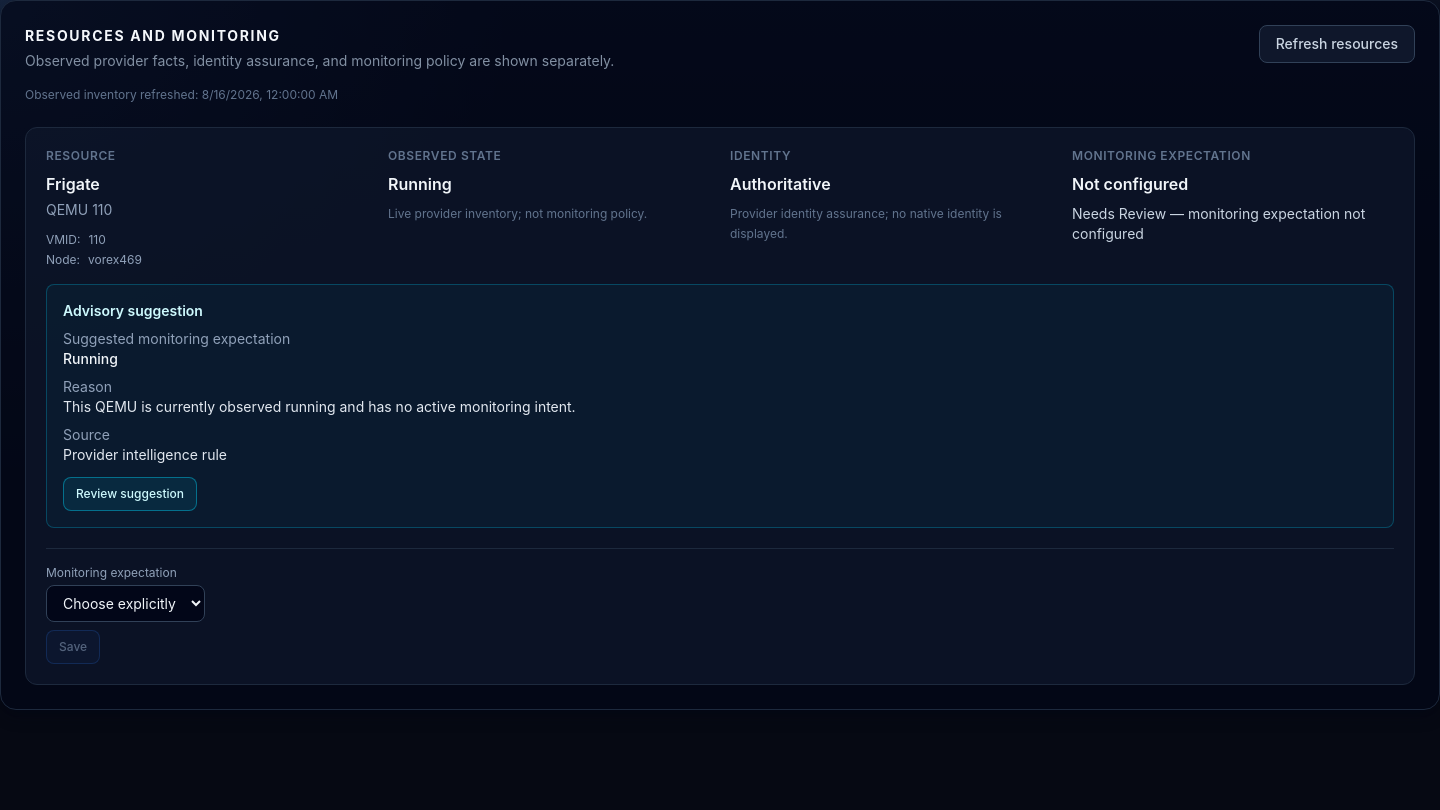
Test: ProviderResources Provider Intent flow › requires a renewed explicit choice when intent configures after review
expect the heading "Frigate" is shown: met, box [46,174,100,194]
expect the dropdown labelled "Monitoring expectation" is shown: met, box [46,585,205,622]
What coordinates should you click on to do the following:
click the button "Review suggestion"
I would click on:
 (130, 494)
Its box is [63,477,197,511].
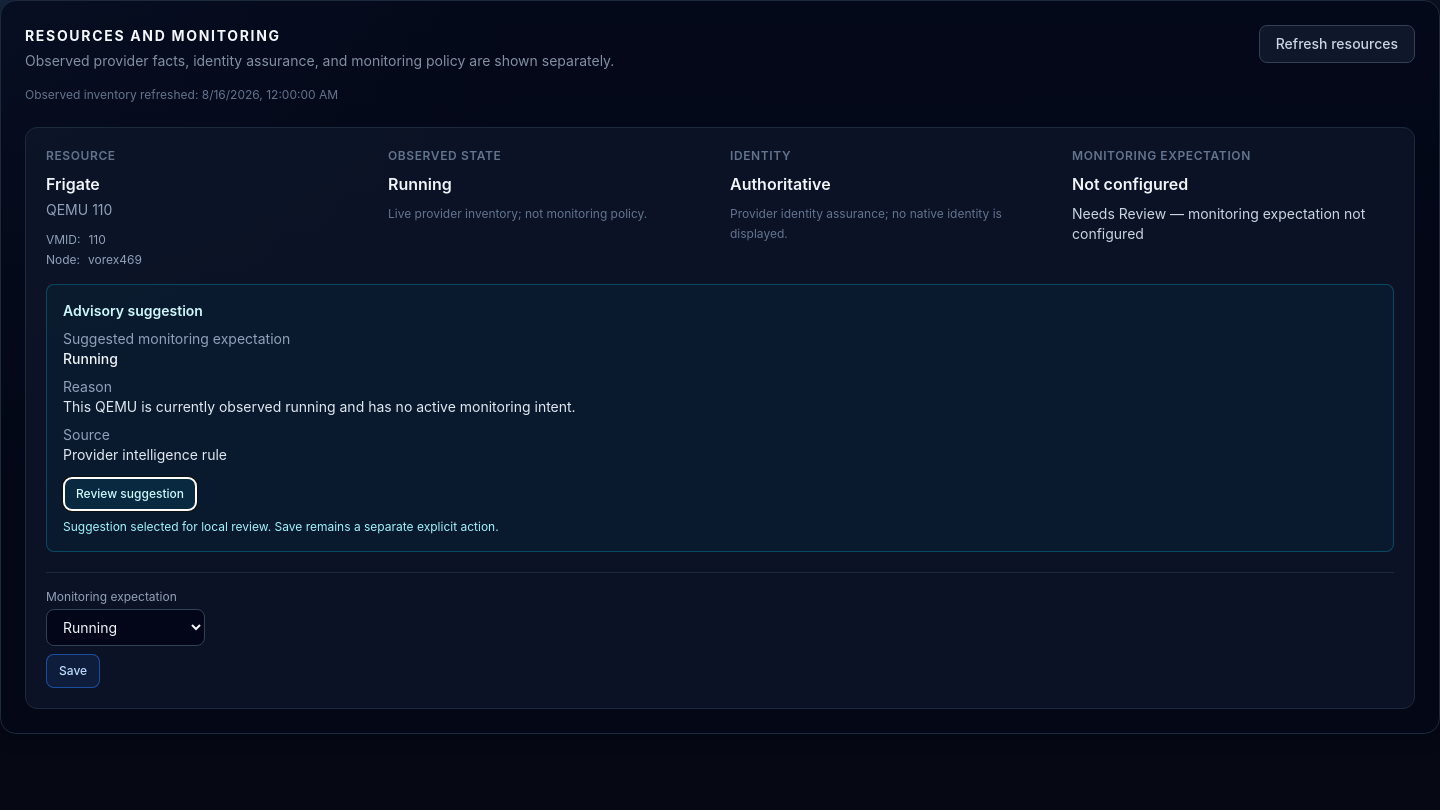
What coordinates should you click on to do the following:
click the button "Refresh resources"
I would click on:
 (1337, 44)
Its box is [1259,25,1415,63].
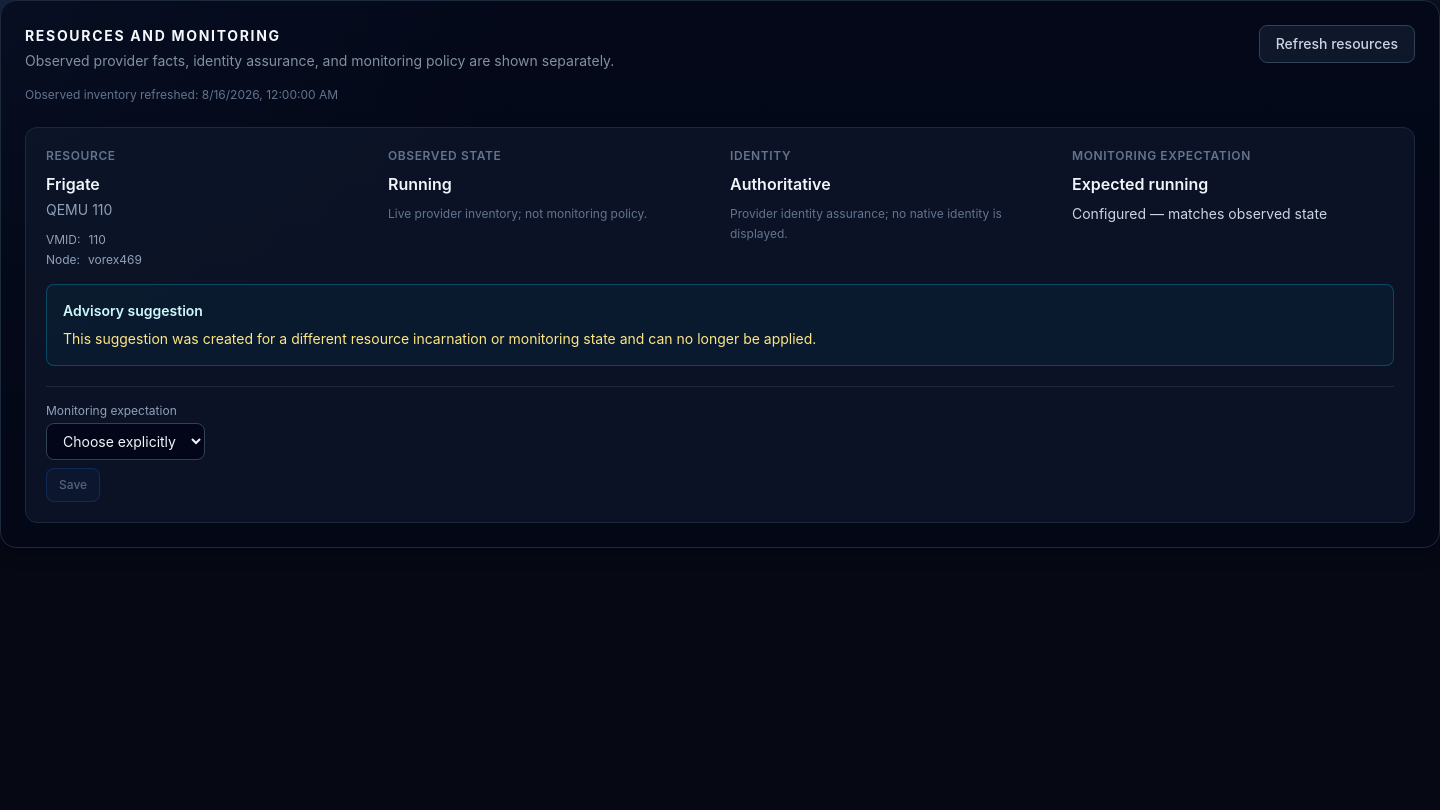
expect the text "Expected running" is shown: met, box [1072,174,1208,194]
expect the dropdown labelled "Monitoring expectation" shows "Choose explicitly": met, box [46,423,205,460]
expect the button "Save" is disabled: met, box [46,468,100,502]
